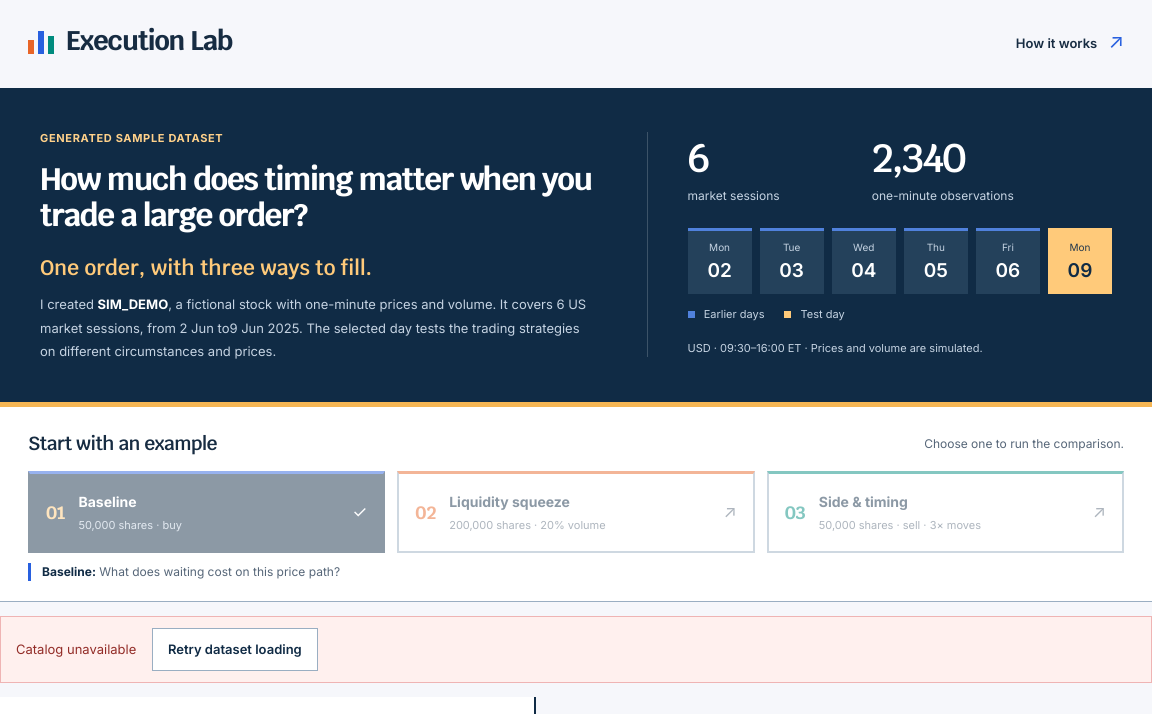
it: recovers a failed catalog without reloading the page
This screenshot has width=1152, height=714.
Check: the message "Catalog unavailable Retry dataset loading" is shown, box [0,616,1151,682]
Click the button "Retry dataset loading": (235, 649) [152,628,318,670]
(page scrolled)
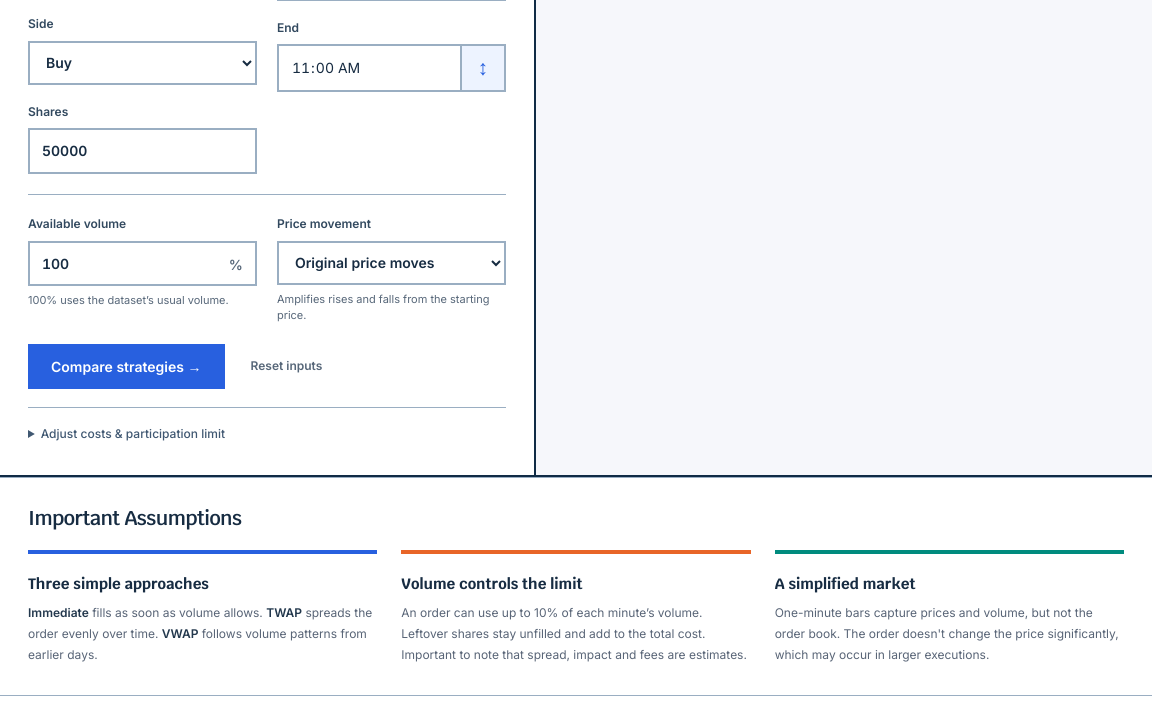
Check: the button "Compare strategies →" is enabled, box [28,344,224,389]
Check: the message "Catalog unavailable Retry dataset loading" is gone
